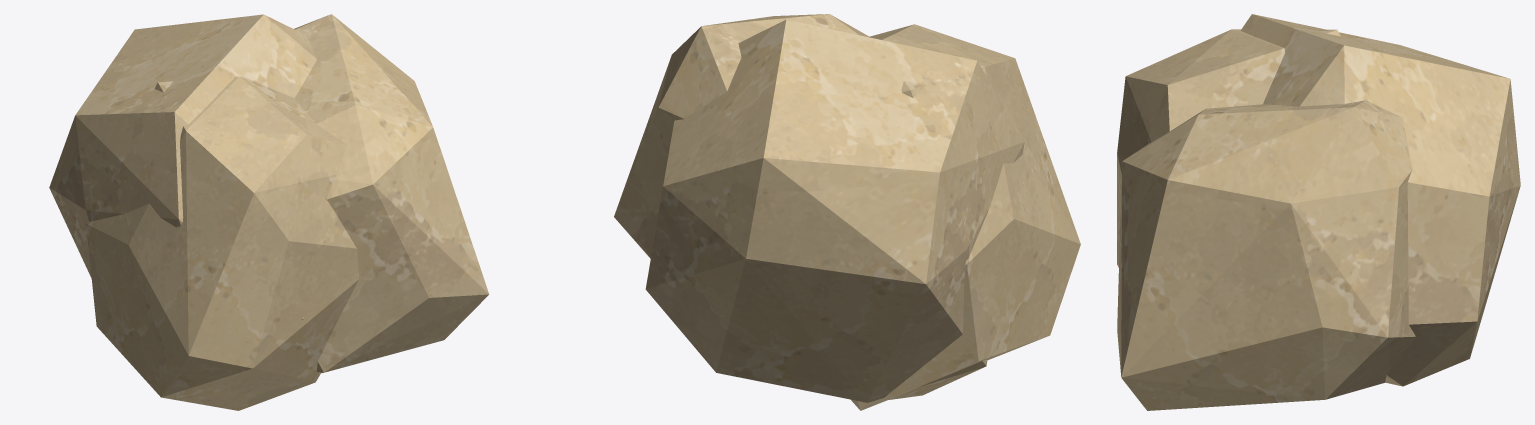
File: ground_bottom_interior_07.glb
3 renders of one model, left to right at view 1: azimuth 30°, elevation 25°; view 2: azimuth 150°, elevation 25°; view 3: azimuth 270°, elevation 25°, orthographic. The views are drawn at different scales.
Parts seen in each view (by area): view 1: GroundBottomInterior07_Body; view 2: GroundBottomInterior07_Body; view 3: GroundBottomInterior07_Body.
Boxes of the visible parts, bbox=[...] form: GroundBottomInterior07_Body: bbox=[49, 14, 489, 410]; GroundBottomInterior07_Body: bbox=[614, 14, 1080, 410]; GroundBottomInterior07_Body: bbox=[1117, 14, 1520, 410].
Bounding box in the file's own units: 1 × 1.05 × 1.
1 material, 1 textured.
